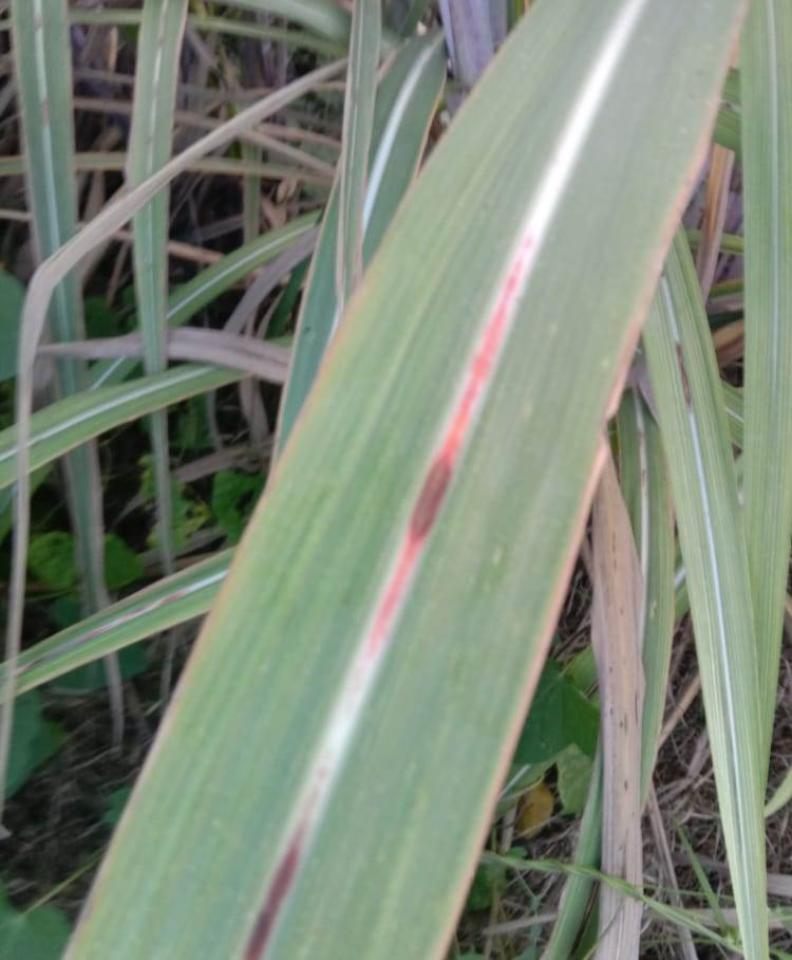RedRot: (340, 234, 535, 717), (240, 767, 331, 959)
